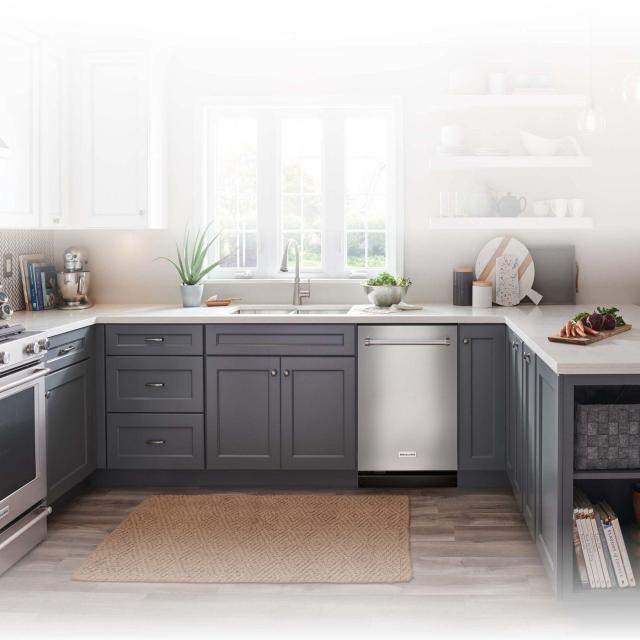dishwasher: (346, 298, 474, 507)
